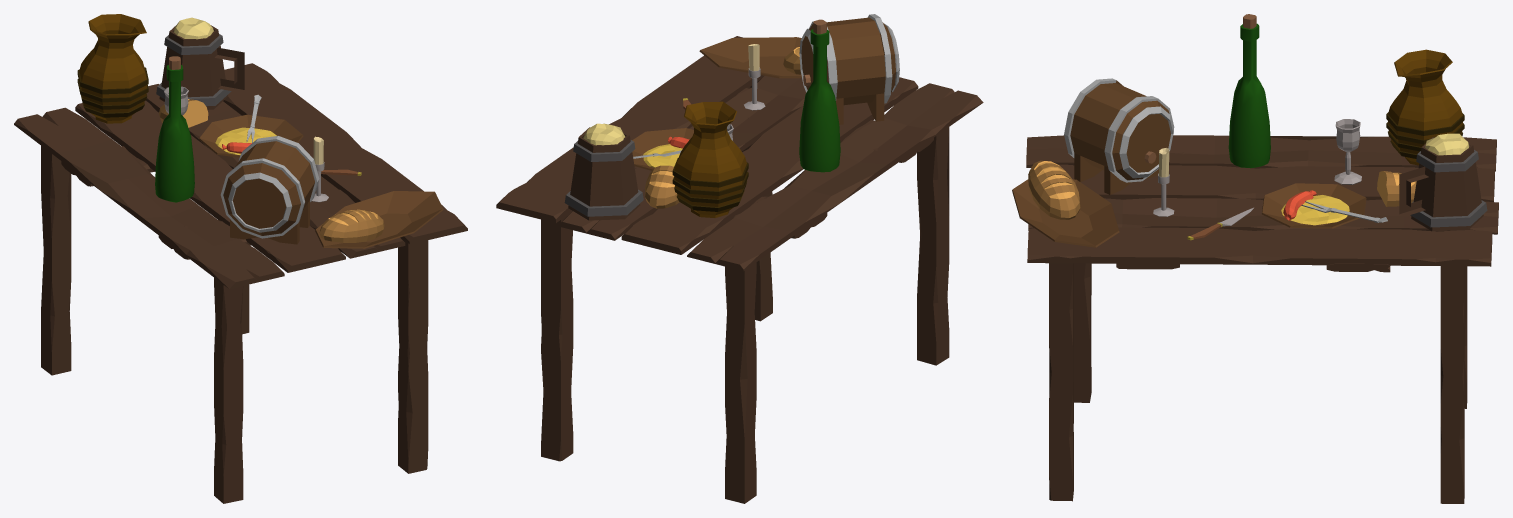
Rendered from tavern-table.glb.
3 views of the same model, side by side, from view 1: azimuth 30°, elevation 25°; view 2: azimuth 150°, elevation 25°; view 3: azimuth 270°, elevation 25° (orthographic). The views are drawn at different scales.
Parts seen in each view (by area): view 1: Plane.002_6, Cylinder_3, Circle.005_11, Roundcube.001_15, Roundcube_7, Circle.007_12, Roundcube.002_16, Circle.001_1, Roundcube.003_8, Roundcube.004_9; view 2: Plane.002_6, Cylinder_3, Circle.005_11, Roundcube.001_15, Roundcube_7, Circle.007_12, Roundcube.004_9, Circle.001_1, Roundcube.003_8; view 3: Plane.002_6, Cylinder_3, Roundcube.001_15, Circle.005_11, Roundcube_7, Circle.007_12, Roundcube.002_16, Circle.001_1, Roundcube.003_8, Circle_0, Roundcube.004_9.
Part boxes in pixels (<box>): Plane.002_6: <box>14,63,467,503</box>; Cylinder_3: <box>220,136,319,244</box>; Circle.005_11: <box>77,14,148,123</box>; Roundcube.001_15: <box>156,17,244,109</box>; Roundcube_7: <box>155,56,194,202</box>; Circle.007_12: <box>315,191,443,248</box>; Roundcube.002_16: <box>319,209,384,242</box>; Circle.001_1: <box>199,114,303,157</box>; Roundcube.003_8: <box>215,127,276,154</box>; Roundcube.004_9: <box>159,99,208,127</box>; Plane.002_6: <box>496,36,983,503</box>; Cylinder_3: <box>799,14,899,124</box>; Circle.005_11: <box>672,101,748,217</box>; Roundcube.001_15: <box>564,123,643,220</box>; Roundcube_7: <box>799,19,840,172</box>; Circle.007_12: <box>699,37,801,78</box>; Roundcube.004_9: <box>645,165,679,208</box>; Circle.001_1: <box>632,128,693,170</box>; Roundcube.003_8: <box>643,144,682,167</box>; Plane.002_6: <box>1026,135,1498,503</box>; Cylinder_3: <box>1064,78,1174,195</box>; Roundcube.001_15: <box>1399,133,1487,231</box>; Circle.005_11: <box>1386,49,1464,165</box>; Roundcube_7: <box>1228,14,1270,168</box>; Circle.007_12: <box>1012,179,1119,247</box>; Roundcube.002_16: <box>1028,160,1080,219</box>; Circle.001_1: <box>1262,183,1366,228</box>; Roundcube.003_8: <box>1281,195,1349,225</box>; Circle_0: <box>1334,119,1361,184</box>; Roundcube.004_9: <box>1377,171,1416,206</box>.
Bounding box in the file's own units: 3.13 × 4.63 × 5.08.
